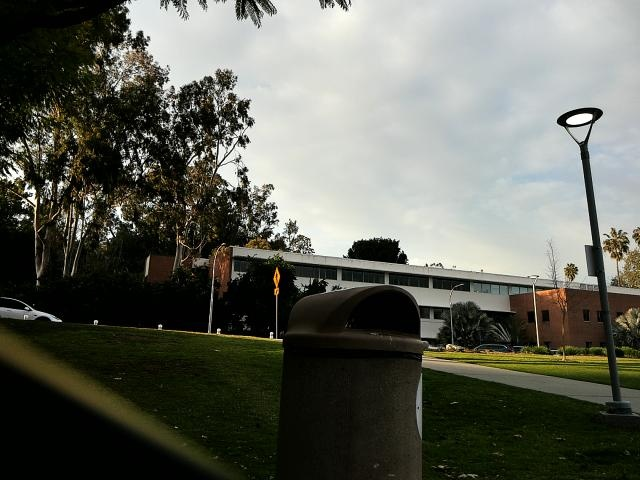trashcan: (275, 279, 427, 480)
